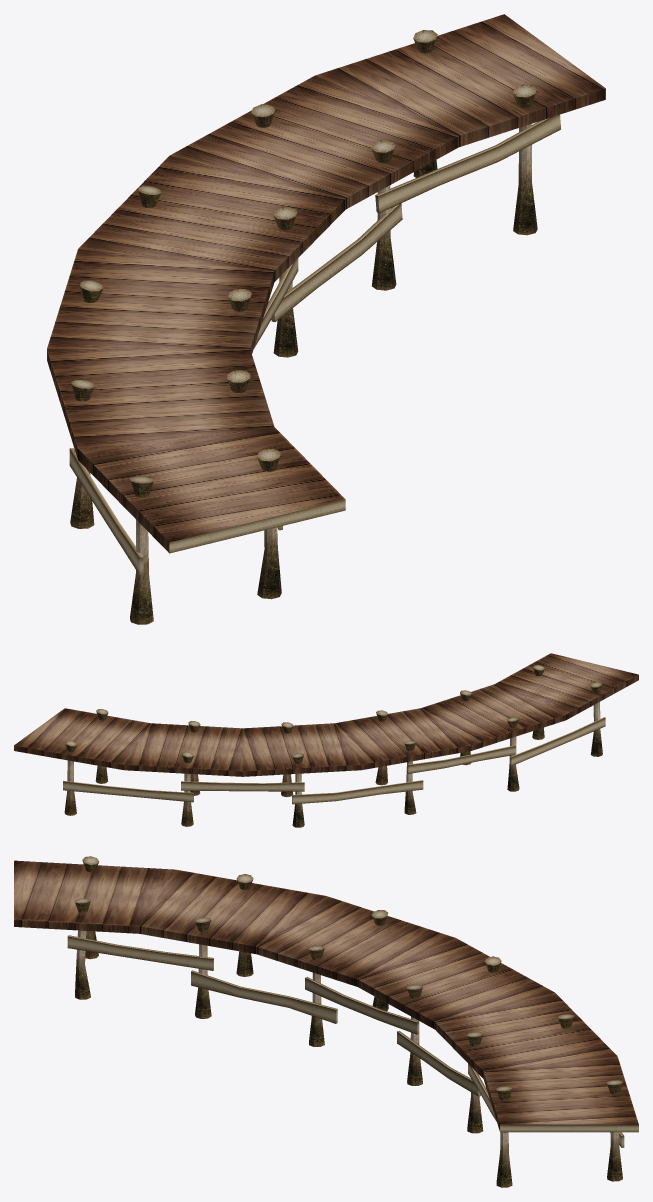
The model's file is platform2_arc_LOD0.fbx.
3 views of the same model, one above another, from view 1: azimuth 30°, elevation 25°; view 2: azimuth 150°, elevation 25°; view 3: azimuth 270°, elevation 25° (orthographic). The views are drawn at different scales.
Visible parts, largest first — view 1: Default_Layer; view 2: Default_Layer; view 3: Default_Layer.
Boxes of the visible parts, left/top/right/bottom form: Default_Layer: left=47, top=14, right=605, bottom=624; Default_Layer: left=14, top=653, right=638, bottom=827; Default_Layer: left=14, top=856, right=638, bottom=1187.
Size of the model in its own units: 450 by 76.64 by 450.
